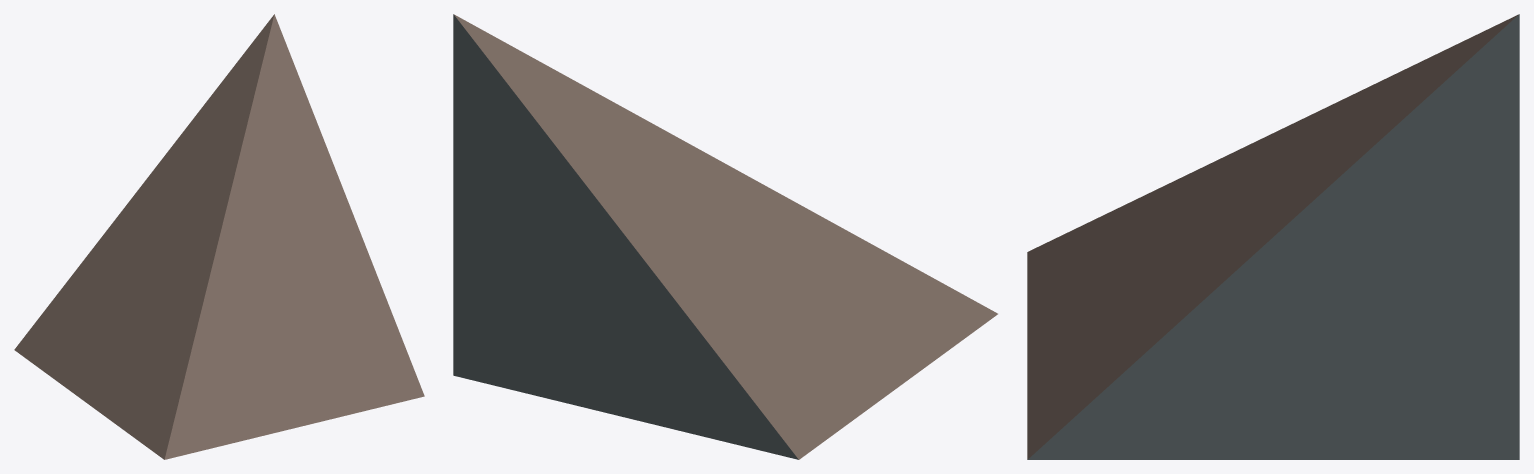
Rendered from Ramp_bend_out.fbx.
The picture shows the model from 3 angles, left to right: view 1: azimuth 30°, elevation 25°; view 2: azimuth 150°, elevation 25°; view 3: azimuth 270°, elevation 25°; orthographic projection. The views are drawn at different scales.
Parts seen in each view (by area): view 1: Mesh; view 2: Mesh; view 3: Mesh.
Boxes of the visible parts, bbox=[...] form: Mesh: bbox=[14, 14, 424, 459]; Mesh: bbox=[453, 14, 997, 459]; Mesh: bbox=[1027, 14, 1519, 459].
Size of the model in its own units: 100 by 100 by 100.
